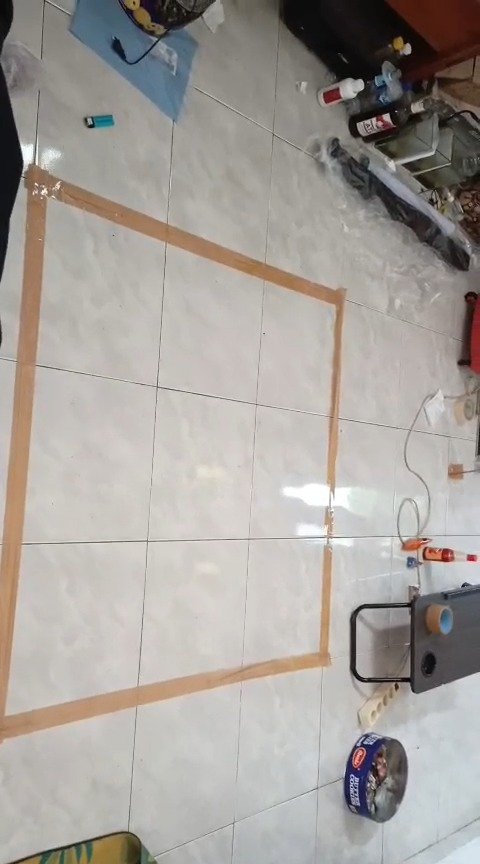floor marking: (0, 164, 343, 740)
